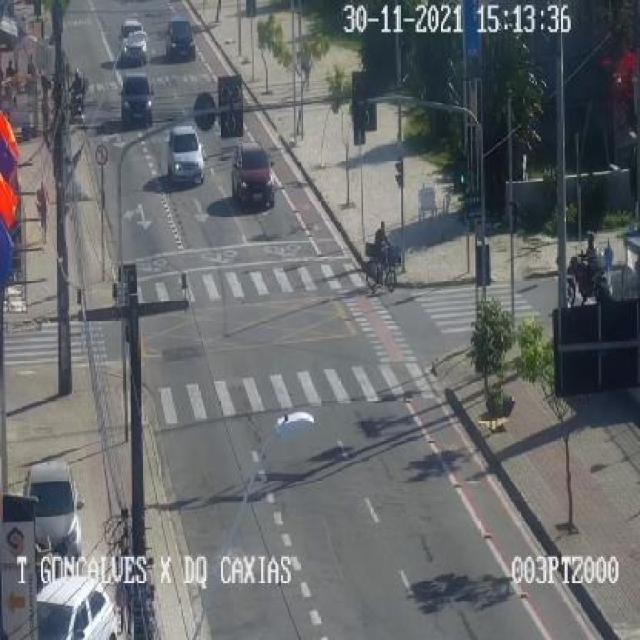Car: (232, 142, 278, 216), (162, 123, 206, 193), (120, 78, 158, 130), (165, 13, 200, 64), (119, 13, 152, 64)
